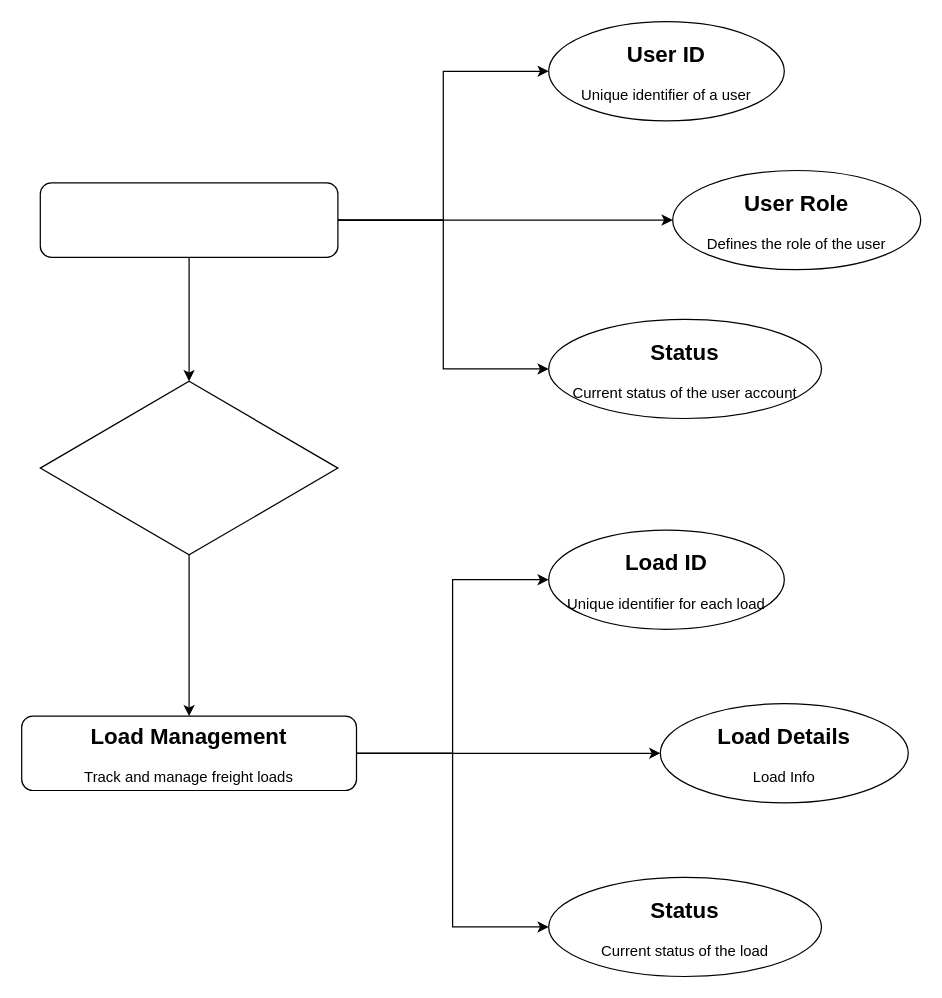
This 942x998 diagram has some shape labels left out. Here are the shapes that lost their labels. From the top down, the box of each, then its label:
(39, 182, 338, 257): User Management Manage user registrations and profiles
(39, 380, 338, 555): Manages Connects users with loads
